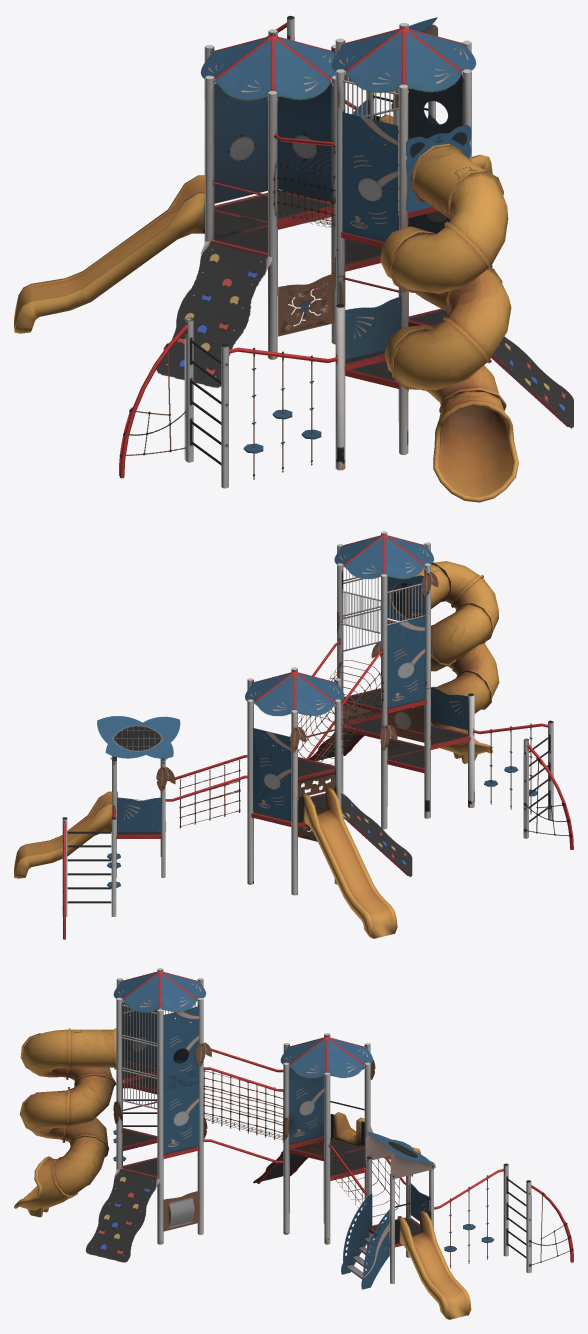
File: play-tower.glb
The picture shows the model from 3 angles, top to bottom: view 1: azimuth 30°, elevation 25°; view 2: azimuth 150°, elevation 25°; view 3: azimuth 270°, elevation 25°; orthographic projection. The views are drawn at different scales.
Parts seen in each view (by area): view 1: Cube.001_KIDS_PLAYGROUND_0, Cube.002_KIDS_PLAYGROUND_TRANSPARENT_0; view 2: Cube.001_KIDS_PLAYGROUND_0, Cube.002_KIDS_PLAYGROUND_TRANSPARENT_0; view 3: Cube.001_KIDS_PLAYGROUND_0, Cube.002_KIDS_PLAYGROUND_TRANSPARENT_0.
Boxes of the visible parts, <box> form: Cube.001_KIDS_PLAYGROUND_0: <box>14,15,568,502</box>; Cube.002_KIDS_PLAYGROUND_TRANSPARENT_0: <box>119,17,573,479</box>; Cube.001_KIDS_PLAYGROUND_0: <box>14,531,573,939</box>; Cube.002_KIDS_PLAYGROUND_TRANSPARENT_0: <box>97,534,572,876</box>; Cube.001_KIDS_PLAYGROUND_0: <box>14,968,571,1319</box>; Cube.002_KIDS_PLAYGROUND_TRANSPARENT_0: <box>85,971,573,1289</box>.
Bounding box in the file's own units: 9.17 × 5.85 × 11.75.
Materials: 2 (2 with a texture image).
